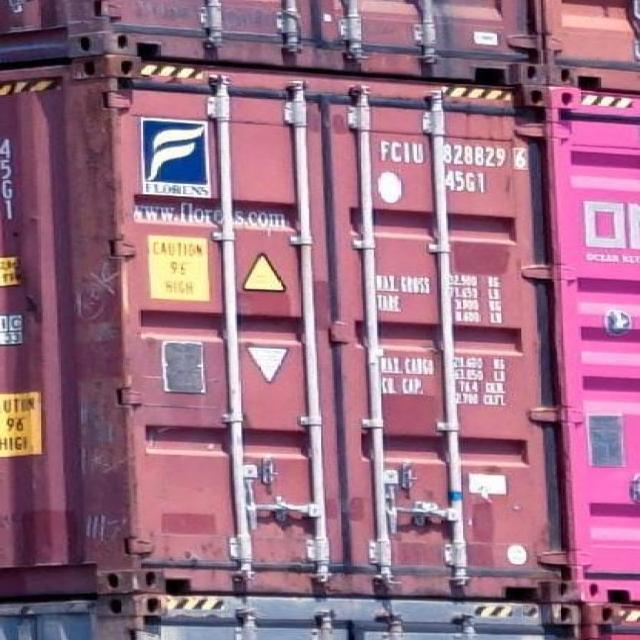ISO: (445, 170, 488, 194)
container_number: (384, 142, 528, 167)
